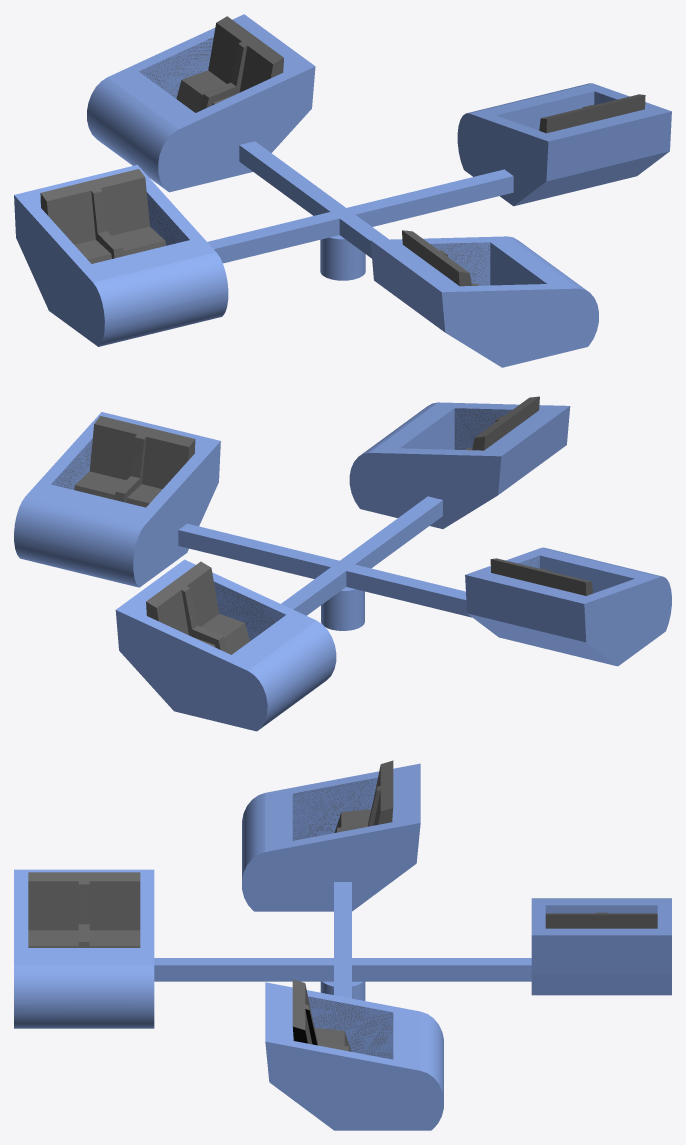
Rendered from car_blue.glb.
3 renders of one model, top to bottom at view 1: azimuth 30°, elevation 25°; view 2: azimuth 150°, elevation 25°; view 3: azimuth 270°, elevation 25°, orthographic. The views are drawn at different scales.
Visible parts, largest first — view 1: SketchUp.011, SketchUp.021, SketchUp.029, SketchUp, SketchUp.010, SketchUp.019, SketchUp.012, SketchUp.016, SketchUp.001, SketchUp.033, SketchUp.027, SketchUp.006 (+2 smaller); view 2: SketchUp.011, SketchUp, SketchUp.021, SketchUp.029, SketchUp.010, SketchUp.001, SketchUp.012, SketchUp.018, SketchUp.019, SketchUp.032, SketchUp.027, SketchUp.022 (+2 smaller); view 3: SketchUp, SketchUp.021, SketchUp.029, SketchUp.011, SketchUp.010, SketchUp.027, SketchUp.025, SketchUp.007, SketchUp.019, SketchUp.012, SketchUp.001, SketchUp.014.
Boxes of the visible parts, x1=… form: SketchUp.011: x1=87, y1=14, x2=315, y2=192; SketchUp.021: x1=14, y1=165, x2=228, y2=346; SketchUp.029: x1=370, y1=236, x2=598, y2=367; SketchUp: x1=457, y1=83, x2=671, y2=206; SketchUp.010: x1=207, y1=141, x2=513, y2=280; SketchUp.019: x1=40, y1=169, x2=165, y2=263; SketchUp.012: x1=176, y1=16, x2=283, y2=112; SketchUp.016: x1=139, y1=37, x2=213, y2=98; SketchUp.001: x1=539, y1=94, x2=645, y2=133; SketchUp.033: x1=430, y1=242, x2=490, y2=285; SketchUp.027: x1=402, y1=230, x2=478, y2=286; SketchUp.006: x1=496, y1=91, x2=594, y2=130; SketchUp.011: x1=115, y1=559, x2=336, y2=731; SketchUp: x1=14, y1=412, x2=220, y2=587; SketchUp.021: x1=465, y1=547, x2=671, y2=666; SketchUp.029: x1=349, y1=402, x2=570, y2=528; SketchUp.010: x1=178, y1=496, x2=471, y2=630; SketchUp.001: x1=74, y1=416, x2=195, y2=507; SketchUp.012: x1=146, y1=561, x2=249, y2=654; SketchUp.018: x1=214, y1=581, x2=285, y2=640; SketchUp.019: x1=490, y1=558, x2=592, y2=595; SketchUp.032: x1=454, y1=408, x2=512, y2=449; SketchUp.027: x1=465, y1=396, x2=539, y2=450; SketchUp.022: x1=540, y1=555, x2=634, y2=593; SketchUp: x1=265, y1=982, x2=443, y2=1130; SketchUp.021: x1=242, y1=763, x2=420, y2=911; SketchUp.029: x1=14, y1=869, x2=154, y2=1028; SketchUp.011: x1=531, y1=898, x2=671, y2=995; SketchUp.010: x1=154, y1=882, x2=531, y2=1000; SketchUp.027: x1=28, y1=872, x2=140, y2=947; SketchUp.025: x1=292, y1=777, x2=377, y2=840; SketchUp.007: x1=308, y1=996, x2=393, y2=1059; SketchUp.019: x1=334, y1=760, x2=393, y2=832; SketchUp.012: x1=545, y1=912, x2=657, y2=928; SketchUp.001: x1=292, y1=979, x2=351, y2=1051; SketchUp.014: x1=545, y1=905, x2=657, y2=913.
Size of the model in its own units: 7.33 by 1.54 by 7.33.
